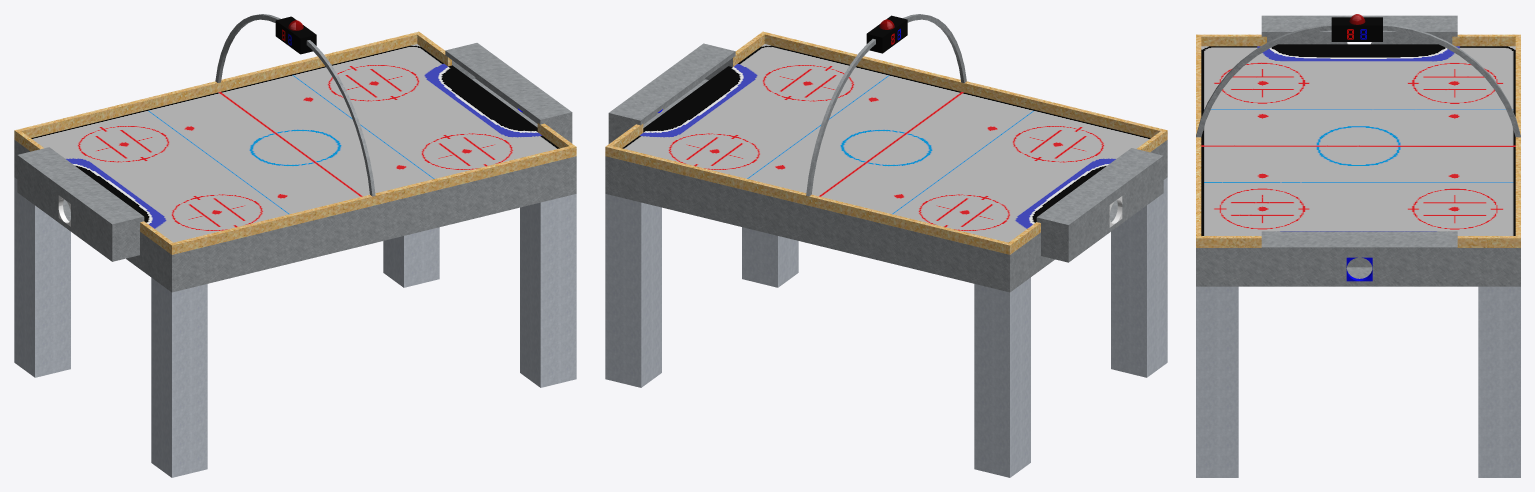
File: TableA_2.FBX
The picture shows the model from 3 angles, left to right: view 1: azimuth 30°, elevation 25°; view 2: azimuth 150°, elevation 25°; view 3: azimuth 270°, elevation 25°; orthographic projection. The views are drawn at different scales.
Visible parts, largest first — view 1: Layer0_001; view 2: Layer0_001; view 3: Layer0_001.
Part boxes in pixels (x1=…): Layer0_001: x1=14, y1=14, x2=576, y2=477; Layer0_001: x1=605, y1=14, x2=1167, y2=477; Layer0_001: x1=1196, y1=14, x2=1520, y2=477.
Bounding box in the file's own units: 2604 × 1898 × 1544.
10 materials, 5 textured.
